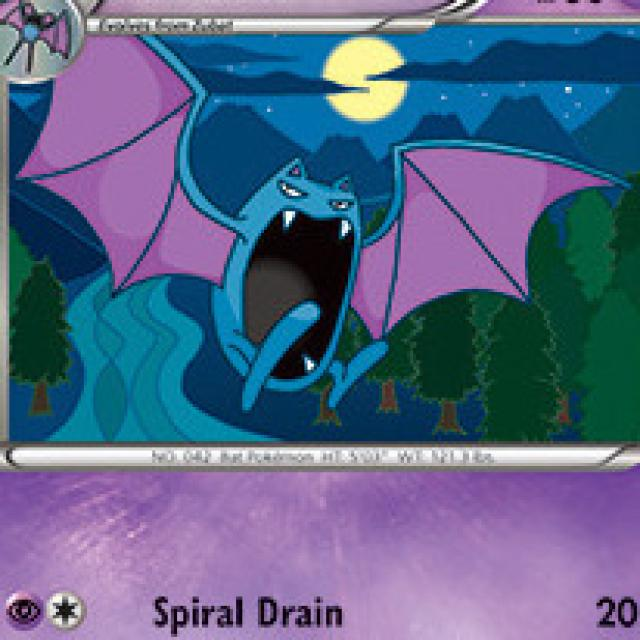Golbat: (106, 134, 520, 412)
